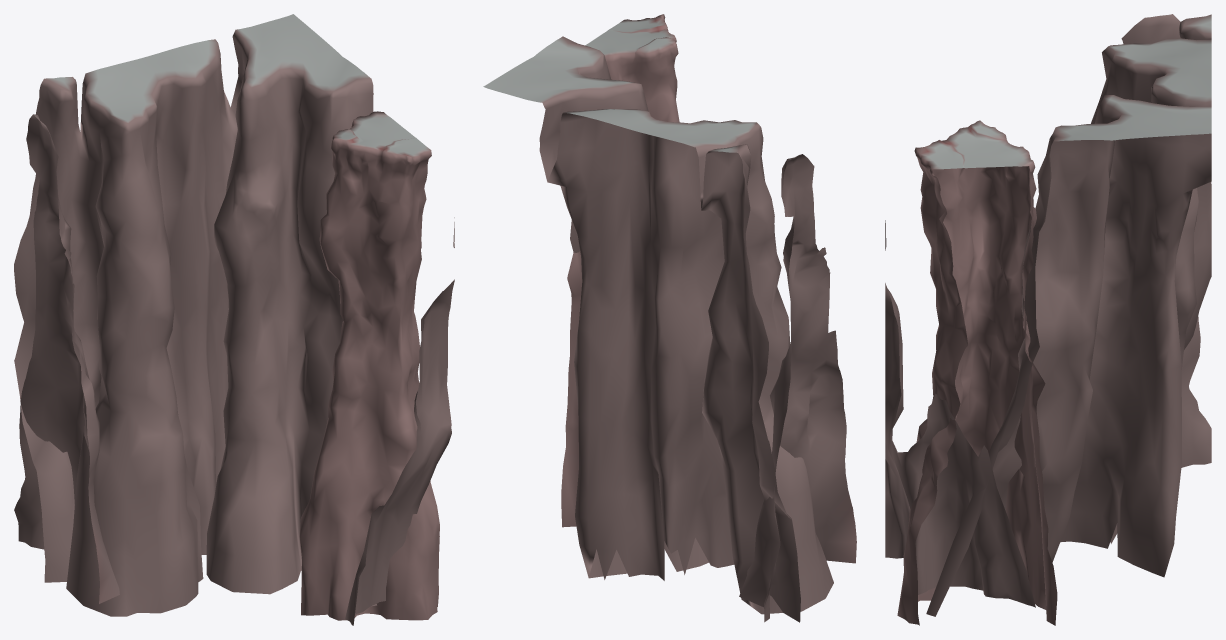
3 views of the same model, side by side, from view 1: azimuth 30°, elevation 25°; view 2: azimuth 150°, elevation 25°; view 3: azimuth 270°, elevation 25° (orthographic). The views are drawn at different scales.
Parts seen in each view (by area): view 1: G:\FFXIV-MapTools\exports\u5f1\bg\ex4\04_uvs_u5\fld\u5f1\bgp (×8); view 2: G:\FFXIV-MapTools\exports\u5f1\bg\ex4\04_uvs_u5\fld\u5f1\bgp (×8); view 3: G:\FFXIV-MapTools\exports\u5f1\bg\ex4\04_uvs_u5\fld\u5f1\bgp (×8).
Boxes of the visible parts, box(x1,y1,x2,y2) form: G:\FFXIV-MapTools\exports\u5f1\bg\ex4\04_uvs_u5\fld\u5f1\bgp (×8): box(14, 14, 454, 625); G:\FFXIV-MapTools\exports\u5f1\bg\ex4\04_uvs_u5\fld\u5f1\bgp (×8): box(483, 14, 856, 622); G:\FFXIV-MapTools\exports\u5f1\bg\ex4\04_uvs_u5\fld\u5f1\bgp (×8): box(885, 14, 1211, 625).
Bounding box in the file's own units: 128 × 215 × 128.
